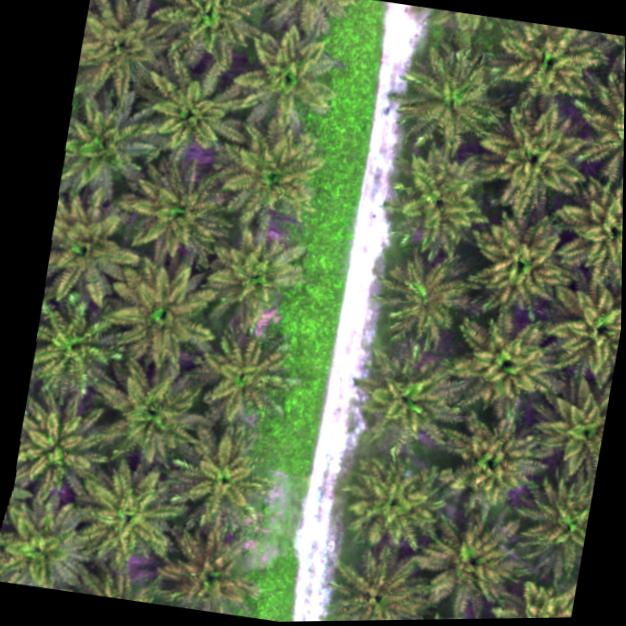oilpalm: (95, 256, 215, 385), (209, 120, 326, 247), (390, 44, 504, 169), (225, 13, 338, 133), (439, 405, 544, 530), (88, 369, 203, 483), (448, 309, 561, 425), (119, 156, 231, 272), (474, 103, 585, 220), (167, 431, 273, 550), (367, 250, 474, 364), (491, 18, 607, 123), (72, 460, 180, 570), (461, 217, 569, 327), (386, 149, 488, 263), (336, 455, 443, 563), (52, 88, 147, 209), (198, 222, 303, 330), (67, 0, 164, 115), (39, 193, 139, 304), (6, 395, 106, 504), (195, 329, 296, 436), (138, 60, 239, 167), (25, 292, 121, 404), (420, 520, 520, 620), (156, 525, 261, 618), (352, 357, 452, 451), (540, 371, 612, 483), (518, 472, 595, 576), (327, 544, 430, 621), (553, 180, 623, 292), (0, 489, 72, 590), (548, 280, 622, 377), (155, 0, 260, 67), (577, 82, 625, 184), (497, 574, 576, 619)
